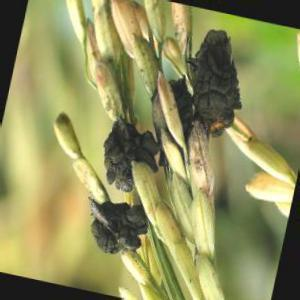False Smut: (195, 33, 238, 135), (86, 200, 144, 258), (108, 122, 149, 183)
